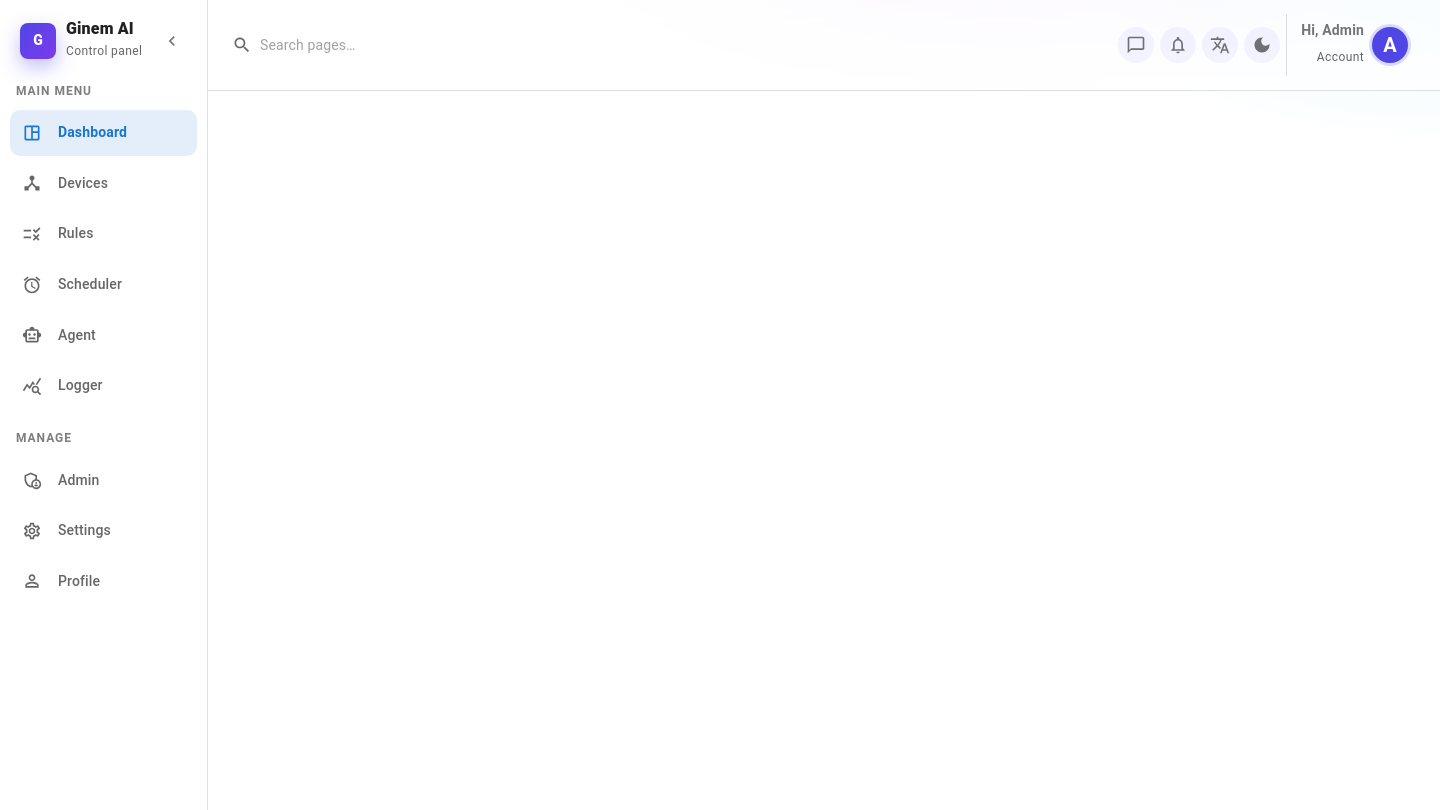
Scenario: AppLayout sidebar › notification bell › opens the panel with the logged events and marks them seen
What coordinates should you click on to do the following:
click the button named "Notifications"
I would click on:
 (1178, 45)
Its box is [1160, 27, 1196, 63].
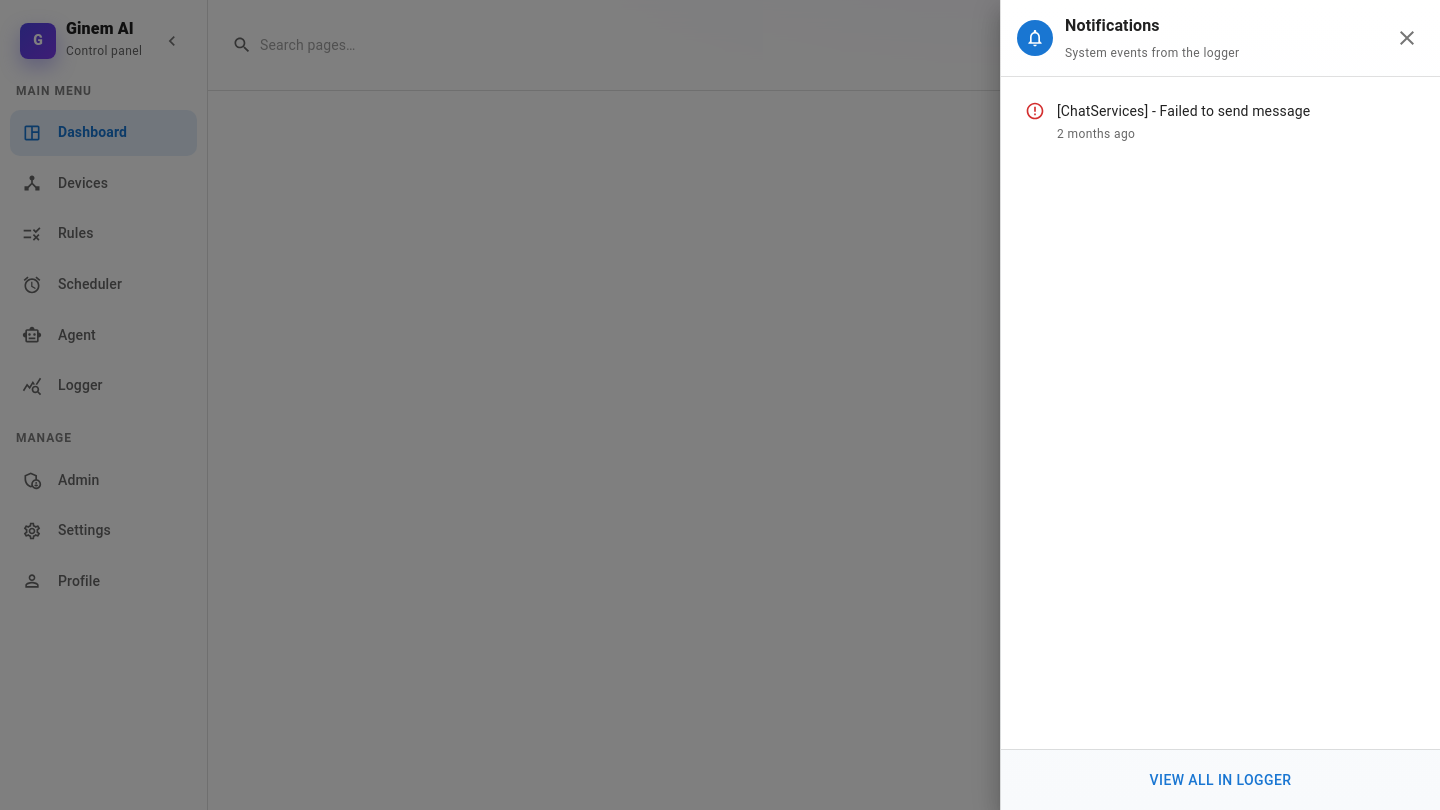
Expected: the text "[ChatServices] - Failed to send message" is shown, [1057, 103, 1310, 119]
